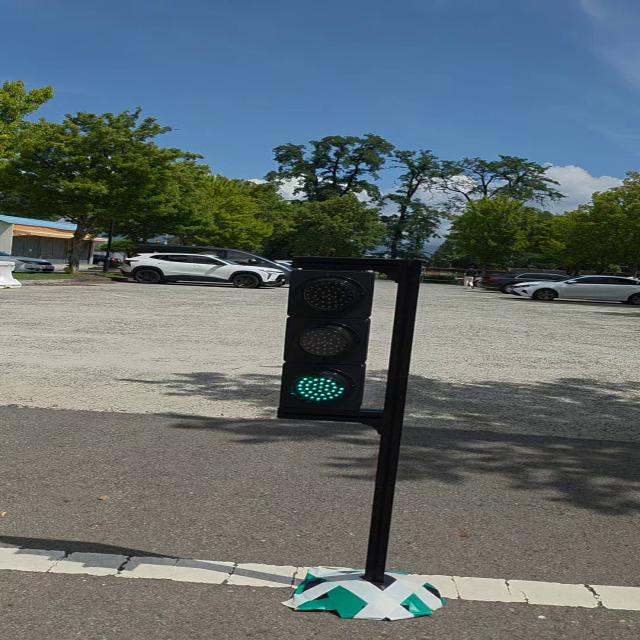green: (278, 268, 376, 422)
